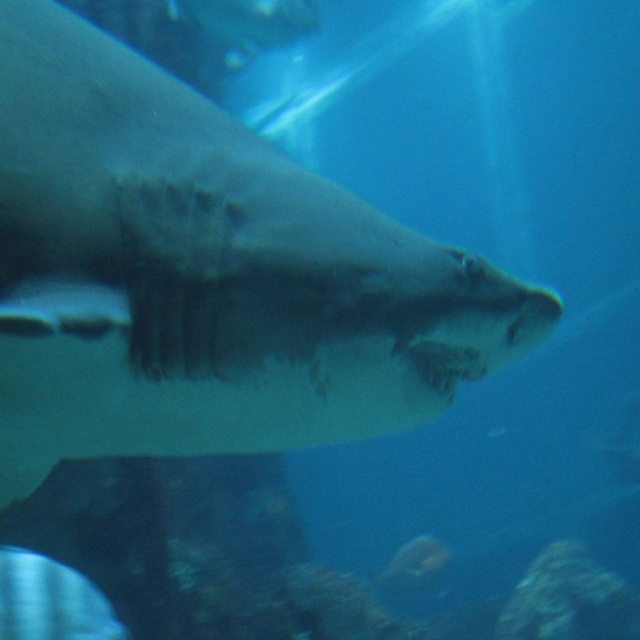Shark: (0, 0, 564, 506)
